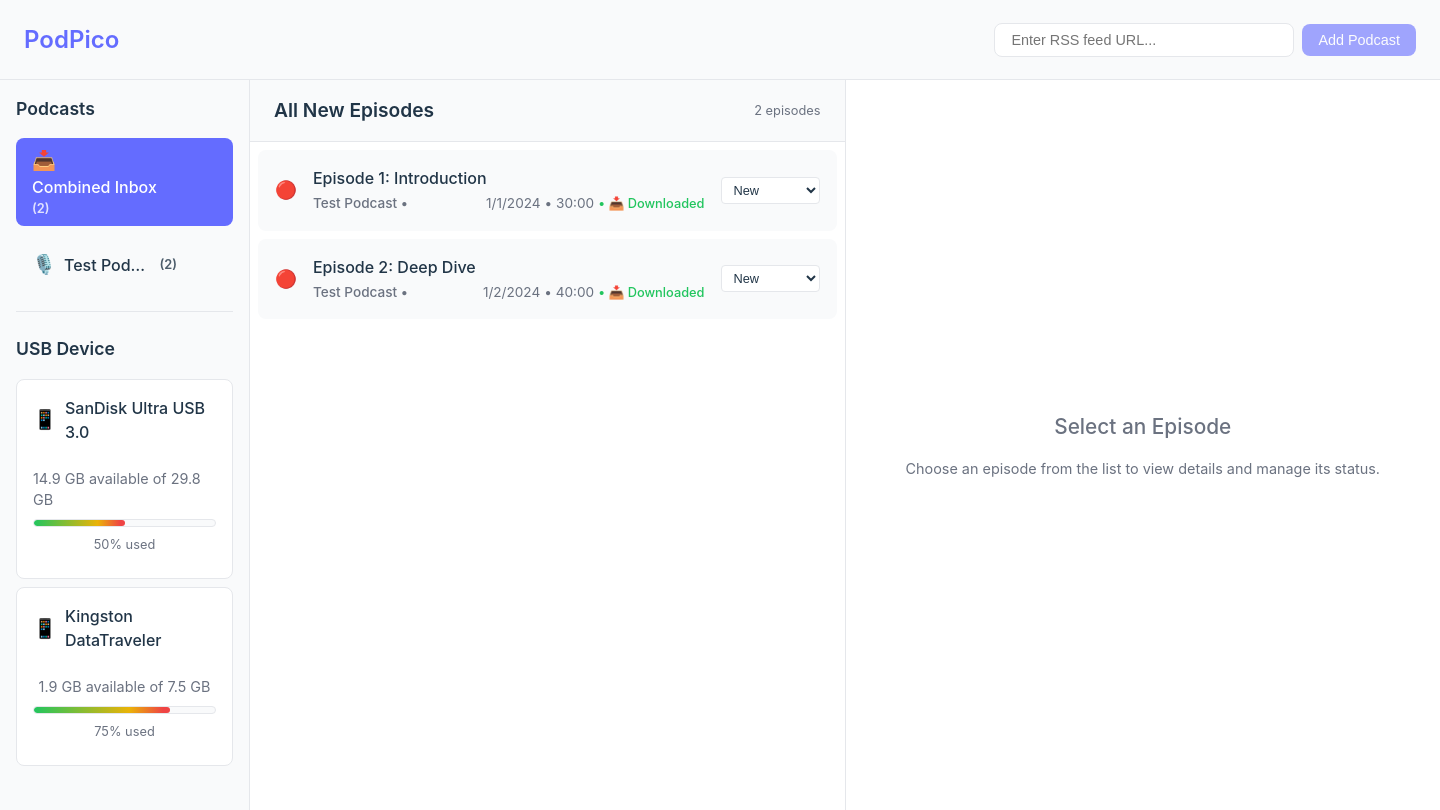
Test case: User Story #8: USB Device Management - End-to-End Integration Tests › USB Device Integration with Episode Management › should display USB devices alongside episode management workflow
Expected: the heading "PodPico" is shown, [24,22,119,58]
Expected: the heading "USB Device" is shown, [16,338,115,359]
Note: Navigate to podcast and verify USB devices are still visible
Click the text "Test Podcast": (108, 265) [64,253,152,277]
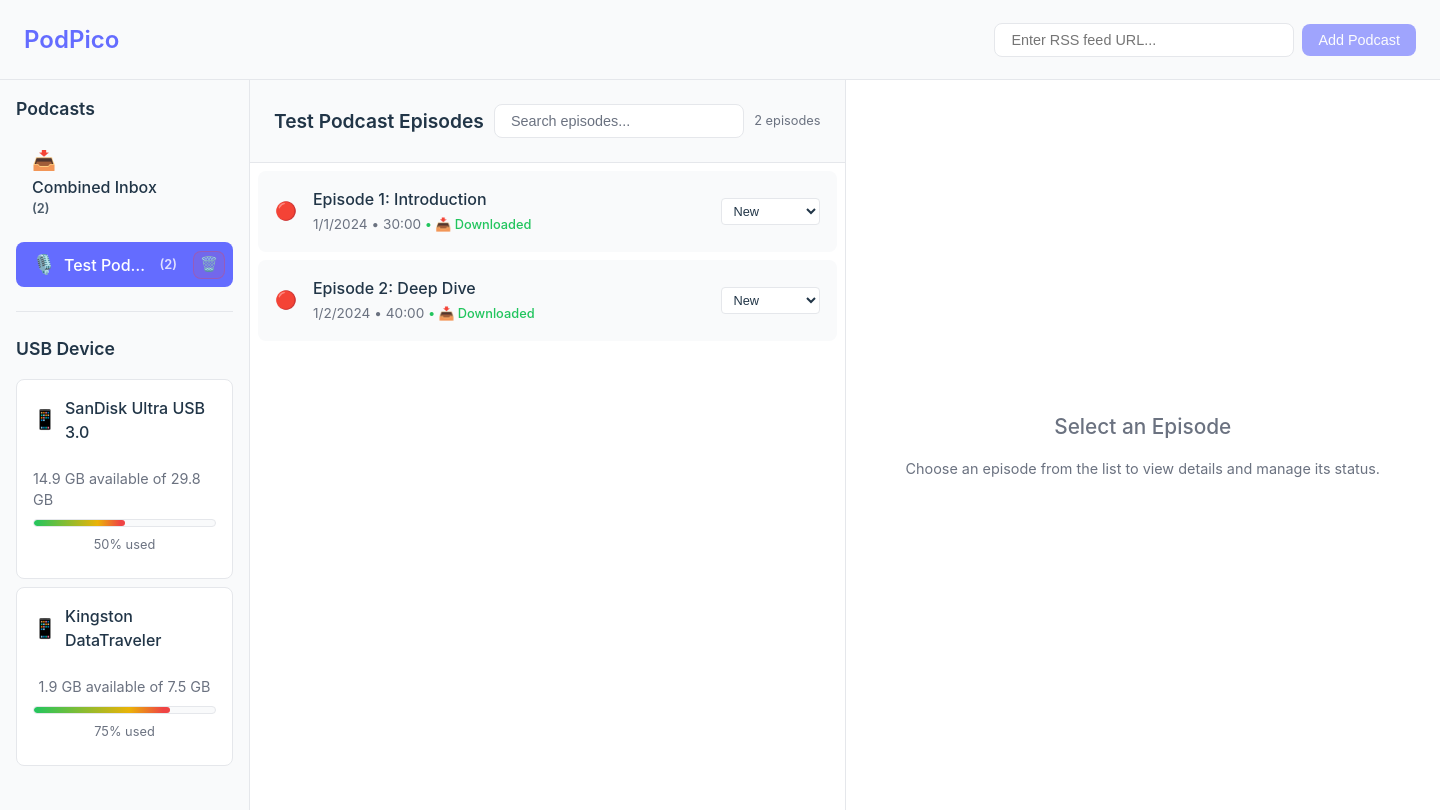
Expected: the text "SanDisk Ultra USB 3.0" is shown, [65,396,216,444]
Expected: the text "Kingston DataTraveler" is shown, [65,606,162,650]
Note: Select an episode and verify USB devices are still there
Click the heading "Episode 1: Introduction": (400, 199) [313,189,487,209]
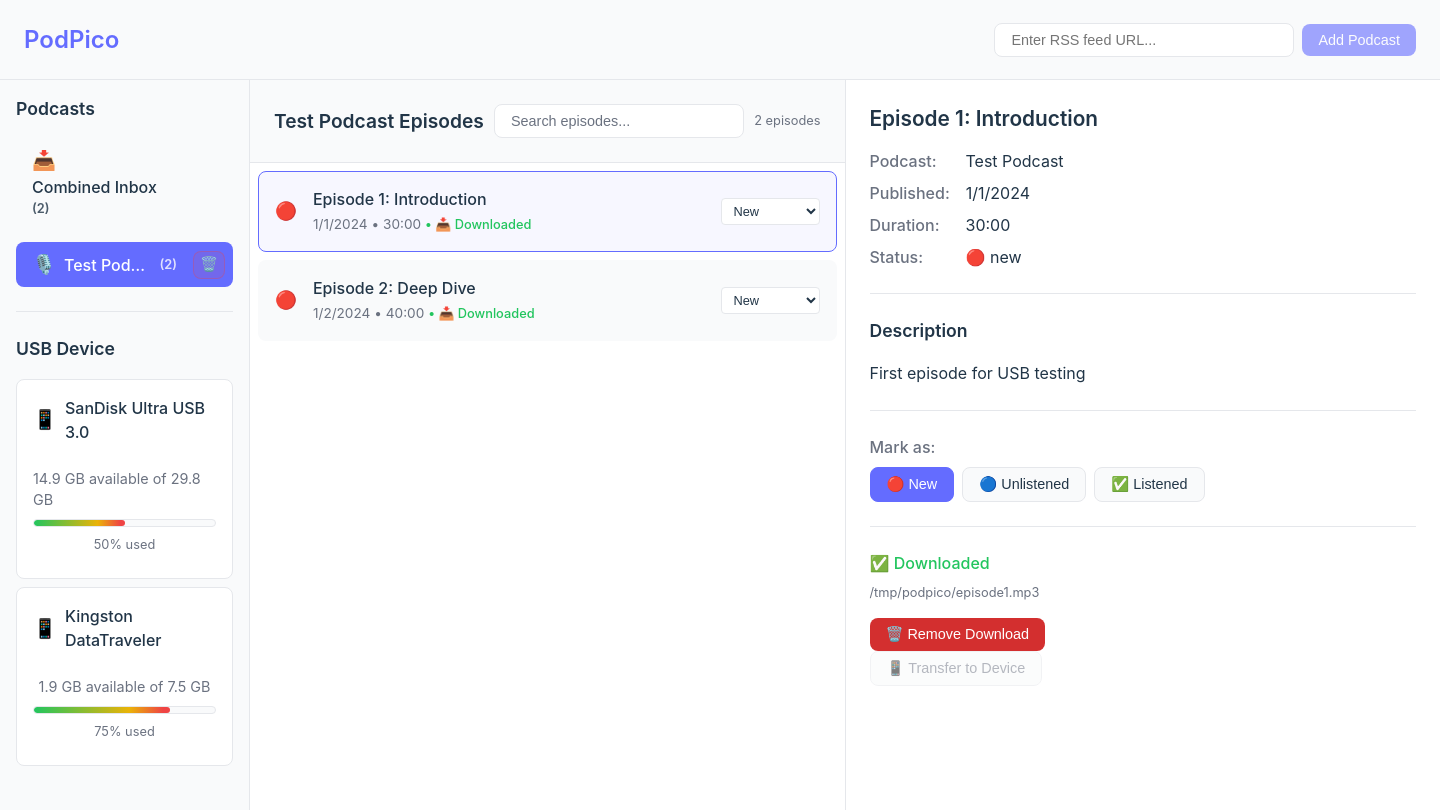
Expected: the text "SanDisk Ultra USB 3.0" is shown, [65,396,216,444]
Expected: the text "Mark as:" is shown, [870,437,935,457]
